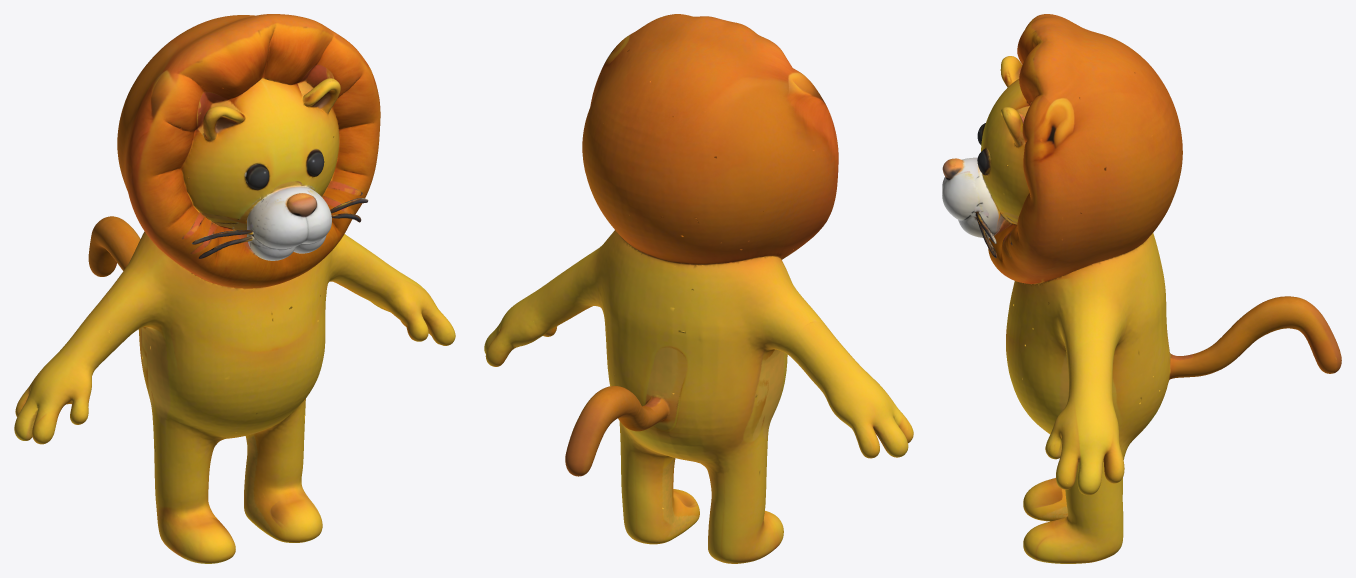
Rendered from LION.fbx.
The picture shows the model from 3 angles, left to right: view 1: azimuth 30°, elevation 25°; view 2: azimuth 150°, elevation 25°; view 3: azimuth 270°, elevation 25°; orthographic projection. The views are drawn at different scales.
Visible parts, largest first — view 1: Mesh_0.183; view 2: Mesh_0.183; view 3: Mesh_0.183.
Part boxes in pixels (left/top/right/bottom): Mesh_0.183: left=14, top=14, right=455, bottom=563; Mesh_0.183: left=484, top=14, right=913, bottom=563; Mesh_0.183: left=942, top=14, right=1341, bottom=563.
Bounding box in the file's own units: 172 × 200 × 143.
Materials: 1 (1 with a texture image).
